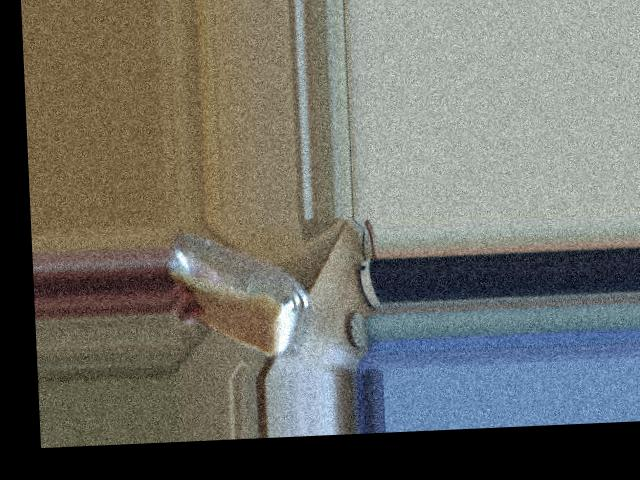cheese: (216, 250, 299, 343)
